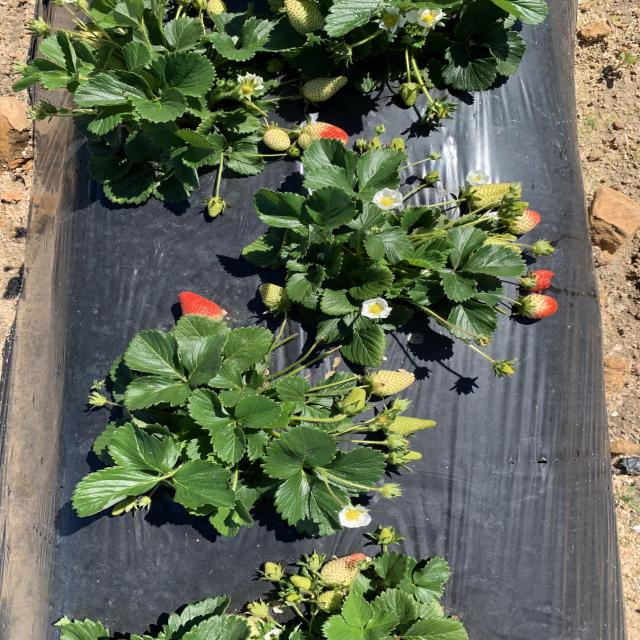unripe: (179, 290, 221, 324), (524, 294, 559, 320), (526, 269, 558, 293)
